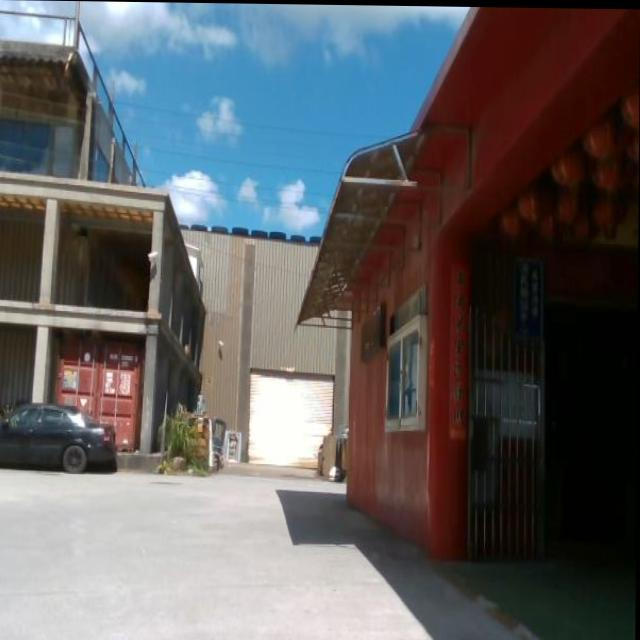pollute: (182, 395, 244, 475), (317, 422, 347, 482)
